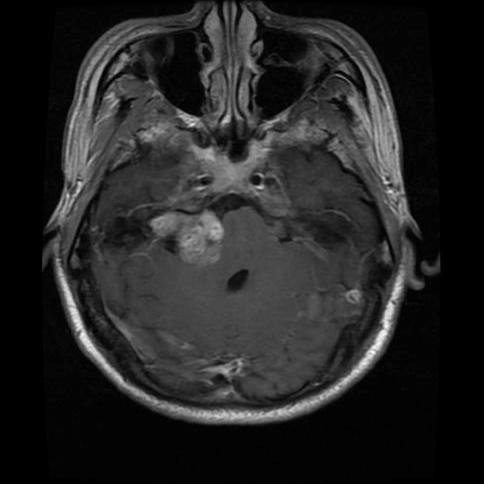Tumour-Meningioma: (127, 196, 247, 293)
